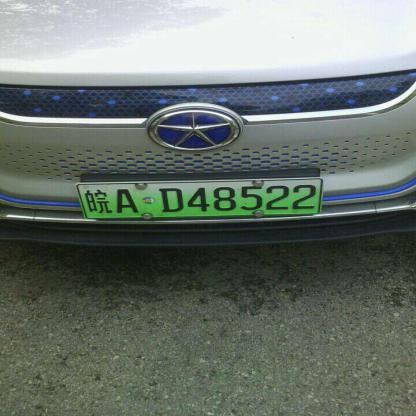lp: (77, 179, 319, 217)
